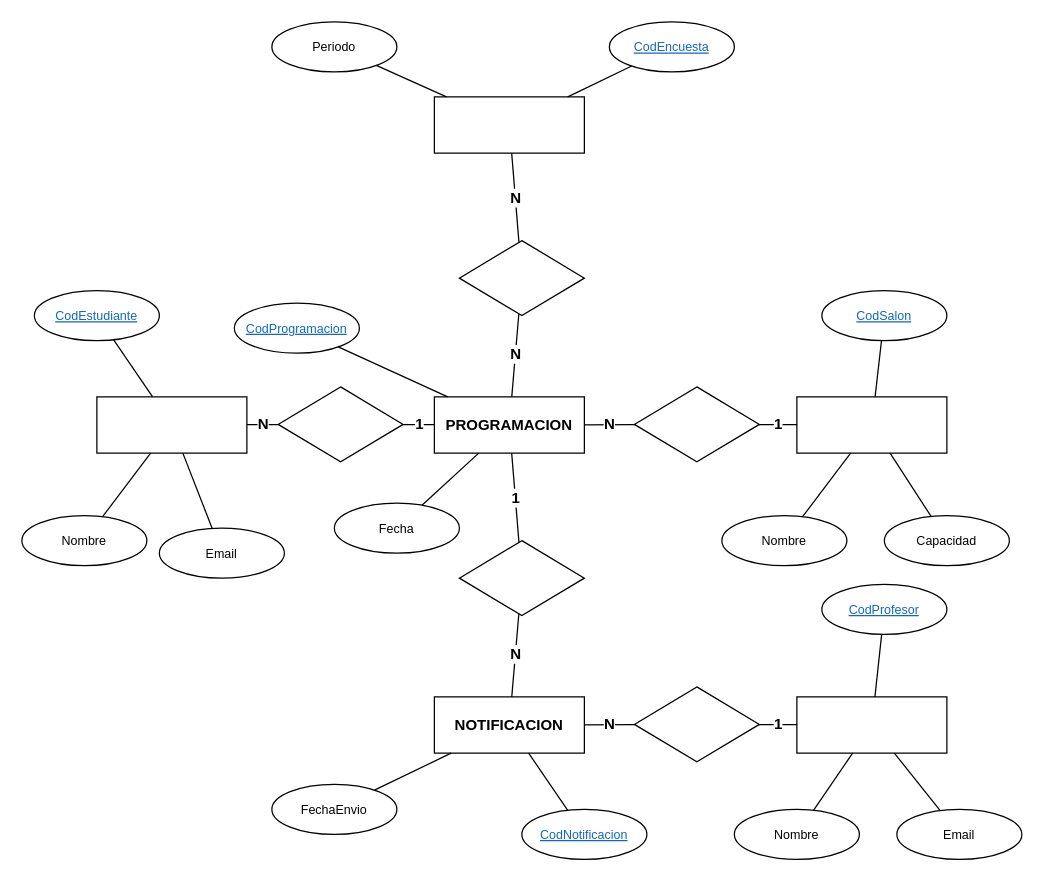
Image size: 1044x881. Some labels were removed from this diagram. The centre of each missing label's shape, as x and y in pixels:
"Aplica en" belongs at (696,424).
"Corresponde" belongs at (521,277).
"Dirigida a" belongs at (696,724).
"ENCUESTA" belongs at (508,124).
"ESTUDIANTE" belongs at (171,424).
"Genera" belongs at (521,577).
"PROFESOR" belongs at (871,724).
"Realiza" belongs at (340,424).
"SALON" belongs at (871,424).
